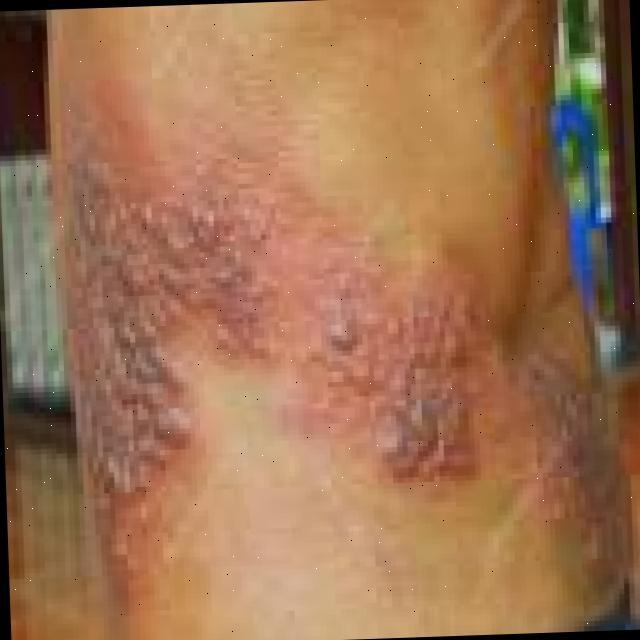Shingles: (54, 143, 480, 564)
